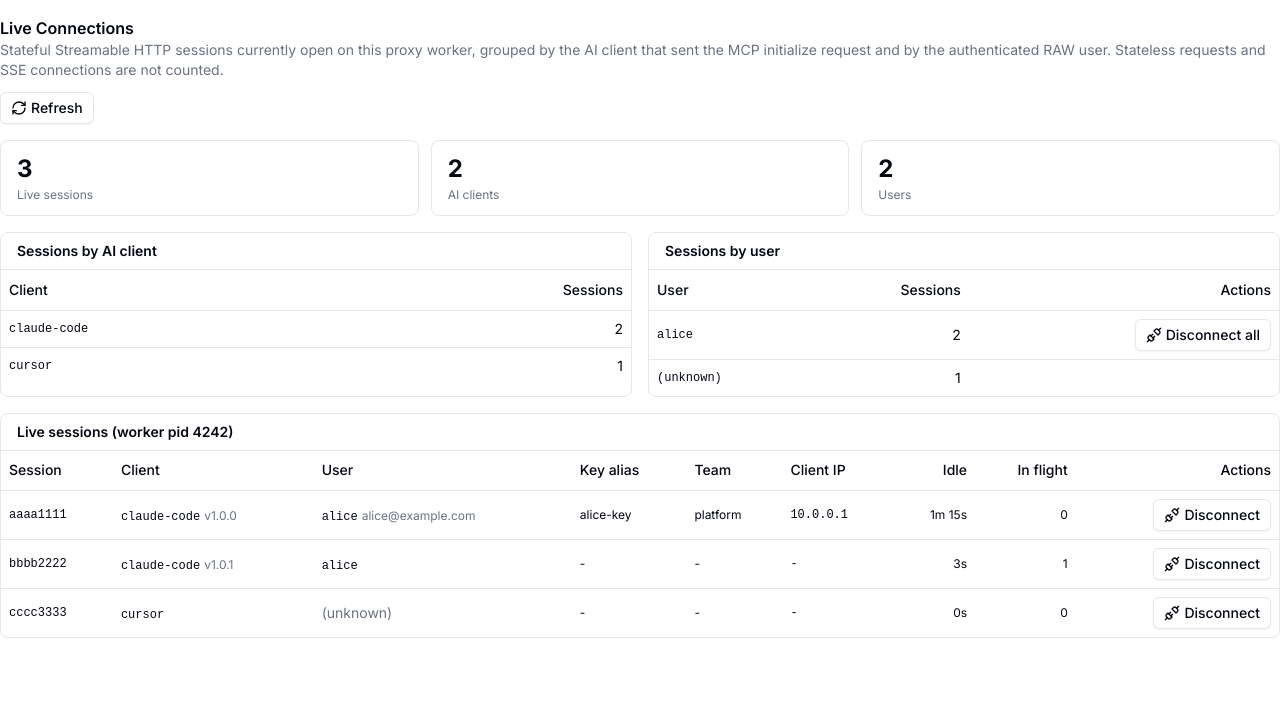
Scenario: MCPGatewaySessionsTab › shows the API error when a disconnect is refused
Click the button with aria-label "Disconnect session aaaa1111": [1212, 515] box [1153,499,1271,531]
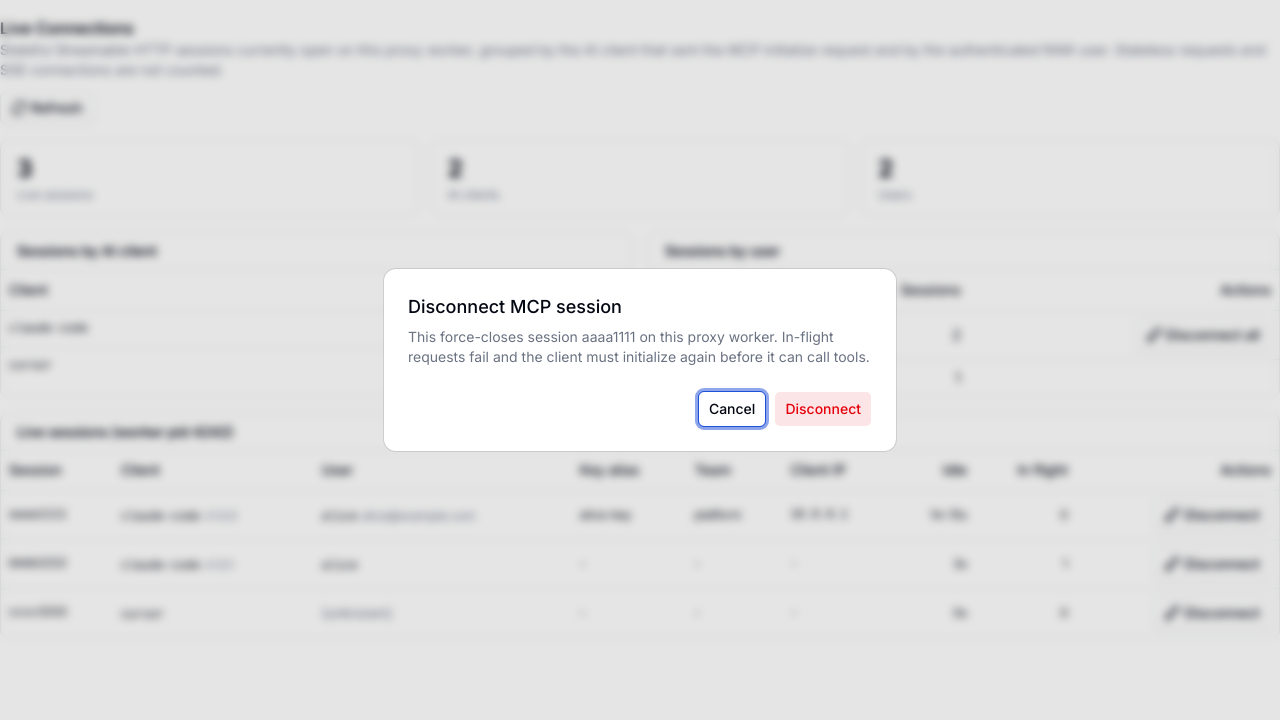
Click the button "Disconnect": [823, 409] box [774,391,872,427]
(page scrolled)
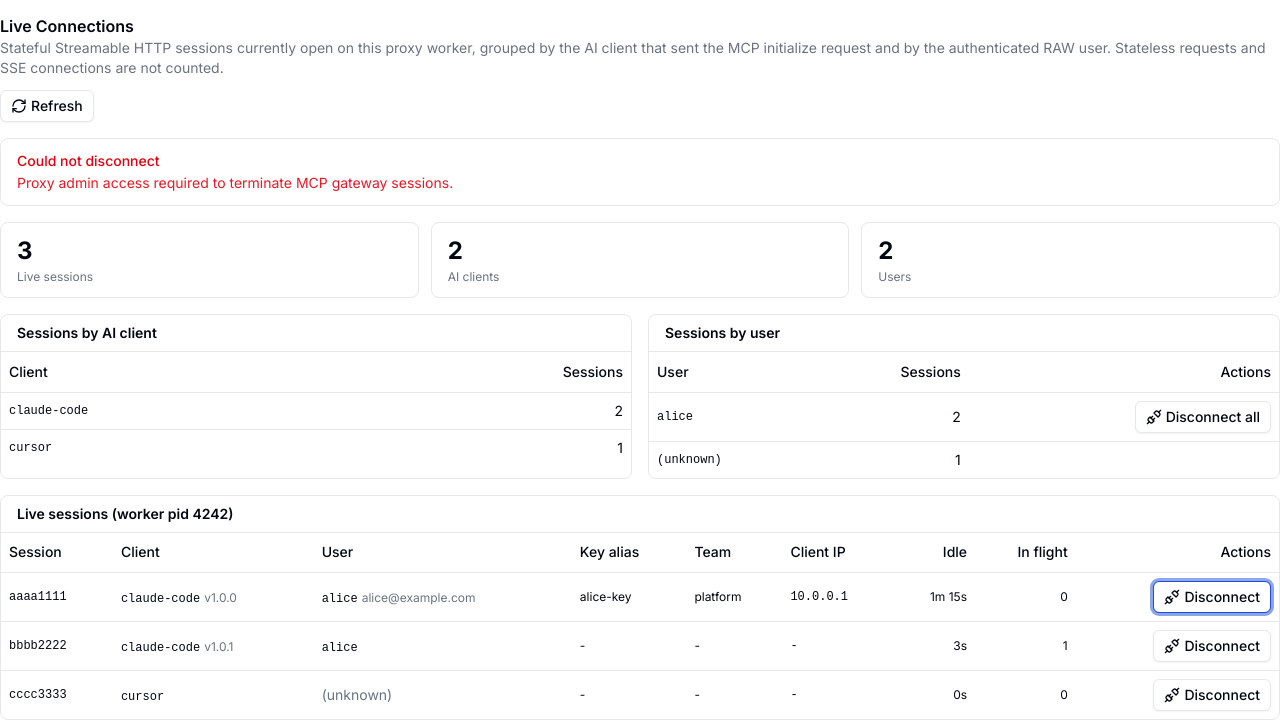
Expected: the element "Live sessions" is shown, [0,494,1279,719]
Expected: the message shows "Could not disconnect", [17,152,160,169]
Expected: the message shows "Proxy admin access required to terminate MCP gateway sessions.", [17,174,453,191]
